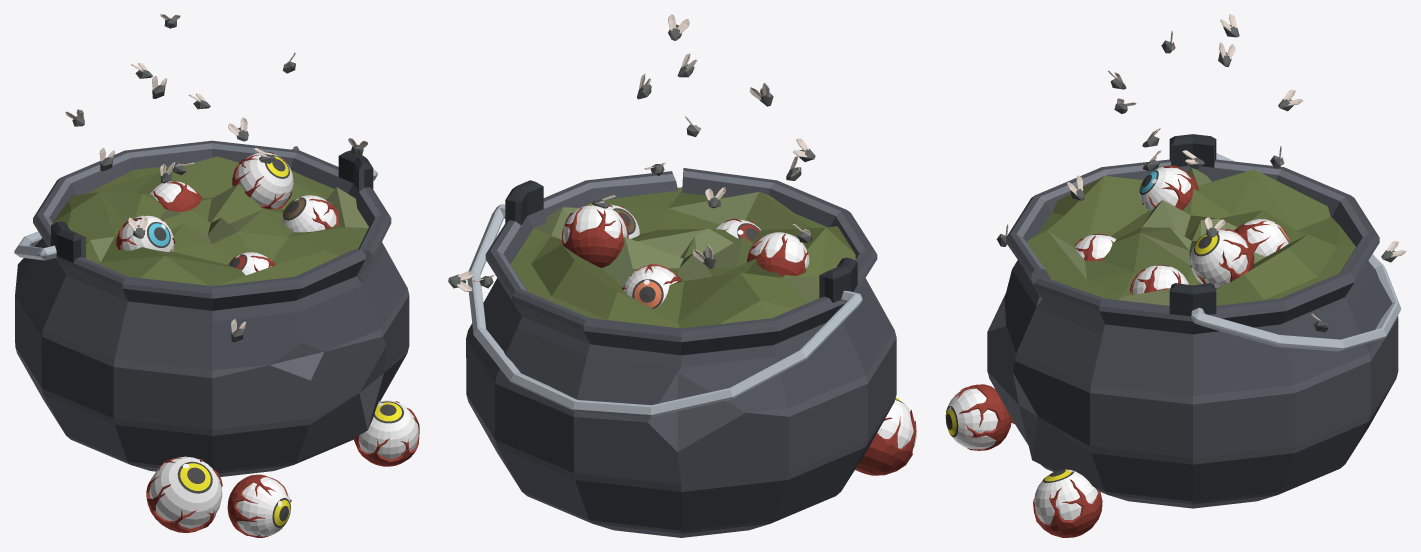
File: WF_LP_HT_Props_Boiler.004.fbx
3 renders of one model, left to right at view 1: azimuth 30°, elevation 25°; view 2: azimuth 150°, elevation 25°; view 3: azimuth 270°, elevation 25°, orthographic. The views are drawn at different scales.
Visible parts, largest first — view 1: WF_LP_HT_Props_Boiler.004; view 2: WF_LP_HT_Props_Boiler.004; view 3: WF_LP_HT_Props_Boiler.004.
Boxes of the visible parts, x1,y1,x2,y2 form: WF_LP_HT_Props_Boiler.004: (14,14,419,537); WF_LP_HT_Props_Boiler.004: (448,14,916,537); WF_LP_HT_Props_Boiler.004: (945,14,1406,537).
Bounding box in the file's own units: 0.6144 × 0.7368 × 0.6892.
